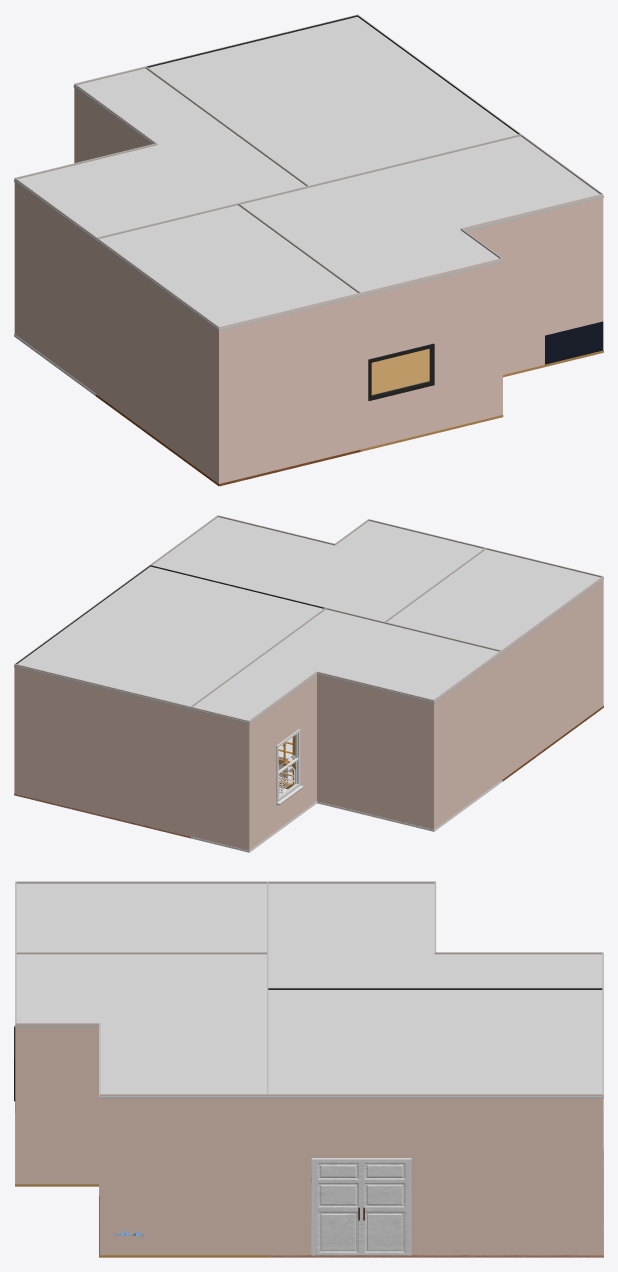
File: ProcTHOR-Train-137.glb
3 renders of one model, top to bottom at view 1: azimuth 30°, elevation 25°; view 2: azimuth 150°, elevation 25°; view 3: azimuth 270°, elevation 25°, orthographic. The views are drawn at different scales.
Parts seen in each view (by area): view 1: Ceiling#room|6|c, Ceiling#room|4|c, Ceiling#room|7|c, WallInside#wall|exterior|6.57|11.50|9.86|11.50, WallInside#wall|exterior|3.29|11.50|6.57|11.50, WallInside#wall|exterior|9.86|6.57|9.86|11.50, Ceiling#room|5|c, WallInside#wall|exterior|0.00|9.86|3.29|9.86, WallInside#wall|exterior|9.86|3.29|9.86|6.57, WallInside#wall|exterior|6.57|0.00|6.57|3.29, Floor#room|4|f, Bed_28 (+2 smaller); view 2: Ceiling#room|6|c, WallInside#wall|exterior|0.00|0.00|4.93|0.00, Ceiling#room|4|c, Ceiling#room|7|c, WallInside#wall|exterior|6.57|3.29|9.86|3.29, WallInside#wall|exterior|9.86|6.57|9.86|11.50, Ceiling#room|5|c, WallInside#wall|exterior|9.86|3.29|9.86|6.57, WallInside#wall|exterior|4.93|0.00|6.57|0.00, WallInside#wall|exterior|6.57|0.00|6.57|3.29, Floor#room|7|f, Window_Hung_44x60 (+1 smaller); view 3: WallInside#wall|exterior|0.00|0.00|0.00|6.57, Ceiling#room|6|c, Ceiling#room|4|c, WallInside#wall|exterior|0.00|6.57|0.00|9.86, Ceiling#room|7|c, Ceiling#room|5|c, WallInside#wall|exterior|3.29|9.86|3.29|11.50, Doorway_Door_8a, Doorway_Door_8b, Doorway_Double_8, Floor#room|6|f, Floor#room|4|f (+5 smaller).
Part boxes in pixels (x1,y1,x2,y2): Ceiling#room|6|c: (145,17,517,187); Ceiling#room|4|c: (238,136,603,296); Ceiling#room|7|c: (14,68,306,240); WallInside#wall|exterior|6.57|11.50|9.86|11.50: (219,293,361,483); WallInside#wall|exterior|3.29|11.50|6.57|11.50: (360,258,502,449); WallInside#wall|exterior|9.86|6.57|9.86|11.50: (96,238,219,483); Ceiling#room|5|c: (95,205,360,331); WallInside#wall|exterior|0.00|9.86|3.29|9.86: (462,194,603,374); WallInside#wall|exterior|9.86|3.29|9.86|6.57: (14,178,96,393); WallInside#wall|exterior|6.57|0.00|6.57|3.29: (74,84,156,163); Floor#room|4|f: (360,348,603,451); Bed_28: (545,321,603,364); Ceiling#room|6|c: (14,566,323,710); WallInside#wall|exterior|0.00|0.00|4.93|0.00: (14,664,190,836); Ceiling#room|4|c: (152,517,484,623); Ceiling#room|7|c: (190,609,502,724); WallInside#wall|exterior|6.57|3.29|9.86|3.29: (317,671,433,829); WallInside#wall|exterior|9.86|6.57|9.86|11.50: (501,576,603,779); Ceiling#room|5|c: (386,549,603,653); WallInside#wall|exterior|9.86|3.29|9.86|6.57: (434,651,501,829); WallInside#wall|exterior|4.93|0.00|6.57|0.00: (190,707,249,850); WallInside#wall|exterior|6.57|0.00|6.57|3.29: (249,671,316,850); Floor#room|7|f: (191,778,502,852); Window_Hung_44x60: (276,729,303,805); WallInside#wall|exterior|0.00|0.00|0.00|6.57: (267,1094,603,1254); Ceiling#room|6|c: (266,990,603,1098); Ceiling#room|4|c: (15,954,268,1098); WallInside#wall|exterior|0.00|6.57|0.00|9.86: (99,1094,267,1254); Ceiling#room|7|c: (266,883,603,989); Ceiling#room|5|c: (15,883,268,954); WallInside#wall|exterior|3.29|9.86|3.29|11.50: (15,1023,99,1184); Doorway_Door_8a: (361,1161,408,1255); Doorway_Door_8b: (315,1161,361,1255); Doorway_Double_8: (311,1158,411,1255); Floor#room|6|f: (266,1149,603,1257); Floor#room|4|f: (15,1113,268,1257).
Size of what is drawn, in the model's own units: 9.98 by 3.52 by 11.56.
Materials: 284 (108 with a texture image).
